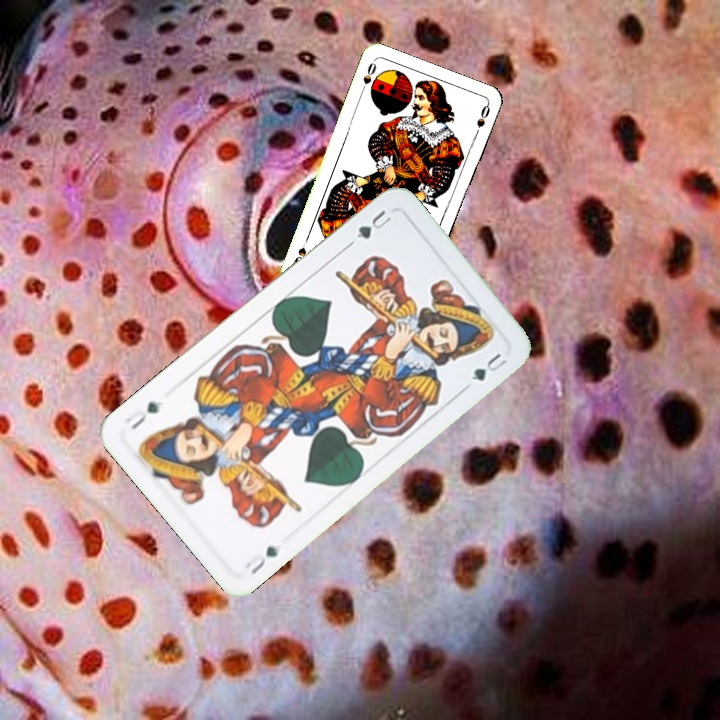GU: (352, 205, 394, 242), (241, 541, 282, 577)
SO: (357, 57, 379, 96)
